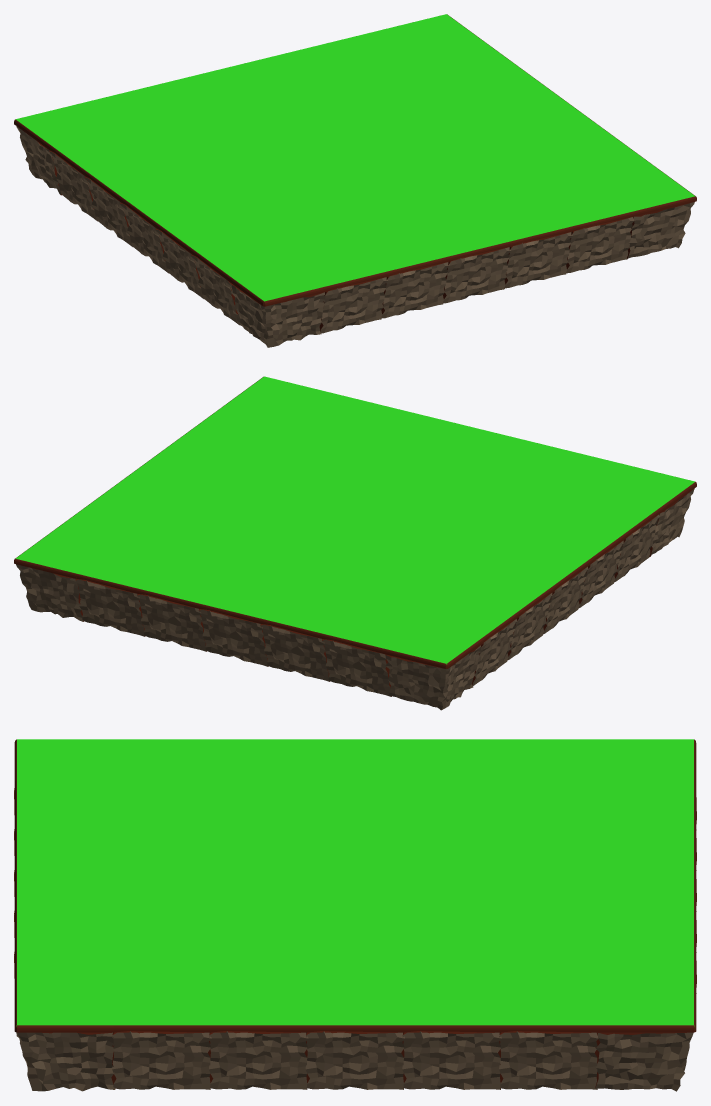
File: Terreno.fbx
3 renders of one model, top to bottom at view 1: azimuth 30°, elevation 25°; view 2: azimuth 150°, elevation 25°; view 3: azimuth 270°, elevation 25°, orthographic. The views are drawn at different scales.
Parts seen in each view (by area): view 1: SueloEsquina1, SueloLateral2, SueloLateral1, SueloLateral3, SueloLateral4, SueloLateral5, SueloEsquina2, SueloLateral20, SueloLateral16, SueloLateral18, SueloLateral17, SueloLateral19 (+37 smaller); view 2: SueloEsquina4, SueloLateral15, SueloLateral13, SueloLateral11, SueloLateral14, SueloLateral12, SueloEsquina3, SueloLateral18, SueloLateral20, SueloLateral19, SueloLateral17, SueloLateral16 (+37 smaller); view 3: SueloLateral10, SueloLateral6, SueloLateral7, SueloLateral9, SueloLateral8, SueloEsquina3, SueloEsquina2, SueloEsquina1, SueloEsquina4, SueloLateral11, SueloLateral5, SueloCentro5 (+37 smaller).
Part boxes in pixels (<box>): SueloEsquina1: <box>227,260,326,347</box>; SueloLateral2: <box>352,230,449,318</box>; SueloLateral1: <box>291,245,388,333</box>; SueloLateral3: <box>414,215,511,303</box>; SueloLateral4: <box>475,200,572,288</box>; SueloLateral5: <box>537,185,634,273</box>; SueloEsquina2: <box>599,170,696,258</box>; SueloLateral20: <box>191,234,289,325</box>; SueloLateral16: <box>49,130,147,221</box>; SueloLateral18: <box>120,182,218,273</box>; SueloLateral17: <box>84,156,183,246</box>; SueloLateral19: <box>156,208,254,299</box>; SueloEsquina4: <box>384,623,483,710</box>; SueloLateral15: <box>322,608,420,696</box>; SueloLateral13: <box>198,578,296,666</box>; SueloLateral11: <box>75,547,173,636</box>; SueloLateral14: <box>260,593,358,681</box>; SueloLateral12: <box>137,562,235,651</box>; SueloEsquina3: <box>14,532,111,621</box>; SueloLateral18: <box>492,544,590,634</box>; SueloLateral20: <box>563,492,661,582</box>; SueloLateral19: <box>527,519,625,607</box>; SueloLateral17: <box>456,571,554,659</box>; SueloLateral16: <box>421,597,519,685</box>; SueloLateral10: <box>499,984,598,1089</box>; SueloLateral6: <box>112,984,211,1089</box>; SueloLateral7: <box>209,984,308,1089</box>; SueloLateral9: <box>402,984,501,1089</box>; SueloLateral8: <box>305,984,404,1089</box>; SueloEsquina3: <box>595,984,696,1091</box>; SueloEsquina2: <box>14,984,115,1091</box>; SueloEsquina1: <box>14,739,113,783</box>; SueloEsquina4: <box>597,739,696,783</box>; SueloLateral11: <box>597,943,696,993</box>; SueloLateral5: <box>14,943,113,987</box>; SueloCentro5: <box>113,943,210,984</box>.
Bounding box in the file's own units: 70.61 × 8.3 × 70.61.
